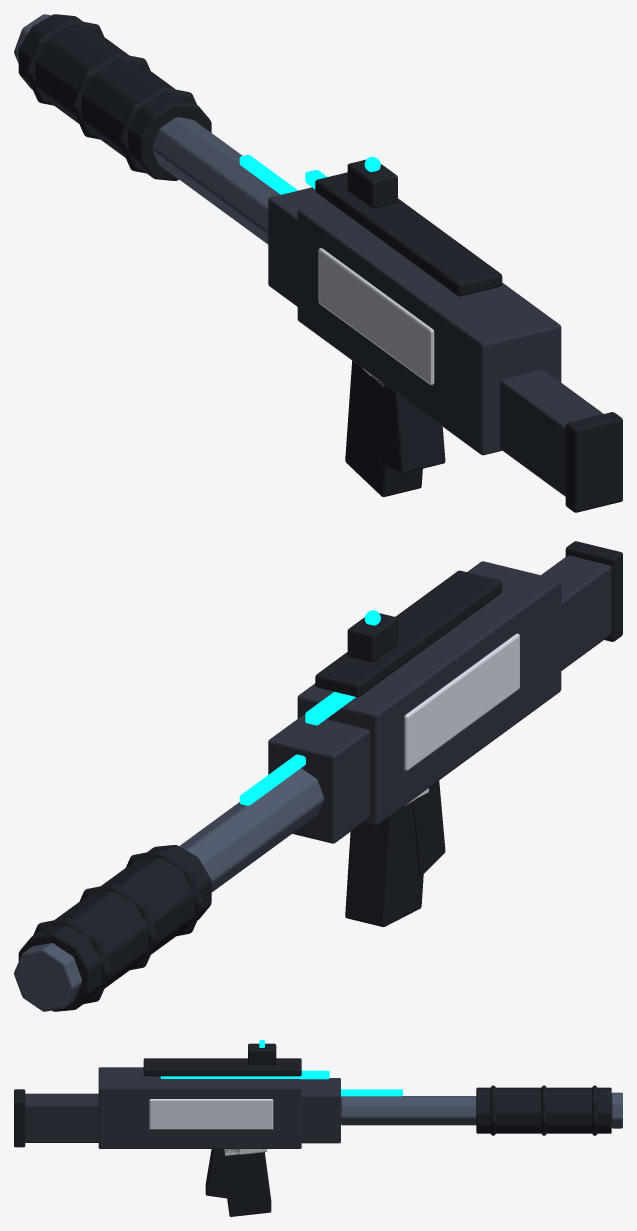
File: wpn_0_pulse_rifle.glb
The picture shows the model from 3 angles, top to bottom: view 1: azimuth 30°, elevation 25°; view 2: azimuth 150°, elevation 25°; view 3: azimuth 270°, elevation 25°; orthographic projection. The views are drawn at different scales.
Visible parts, largest first — view 1: wpn_0_pulse_rifle; view 2: wpn_0_pulse_rifle; view 3: wpn_0_pulse_rifle.
Part boxes in pixels (<box>): wpn_0_pulse_rifle: <box>14,14,622,512</box>; wpn_0_pulse_rifle: <box>14,541,622,1011</box>; wpn_0_pulse_rifle: <box>14,1040,622,1216</box>.
Bounding box in the file's own units: 0.101 × 0.3362 × 1.08.
